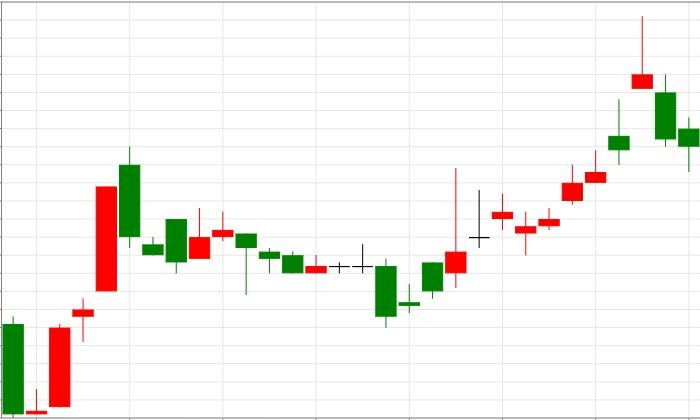shooting_star_fall: (515, 16, 653, 255)
